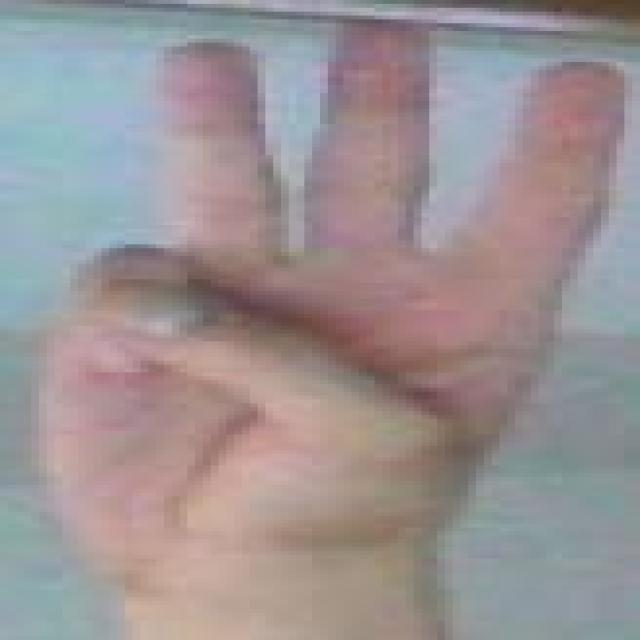W: (25, 7, 640, 610)
